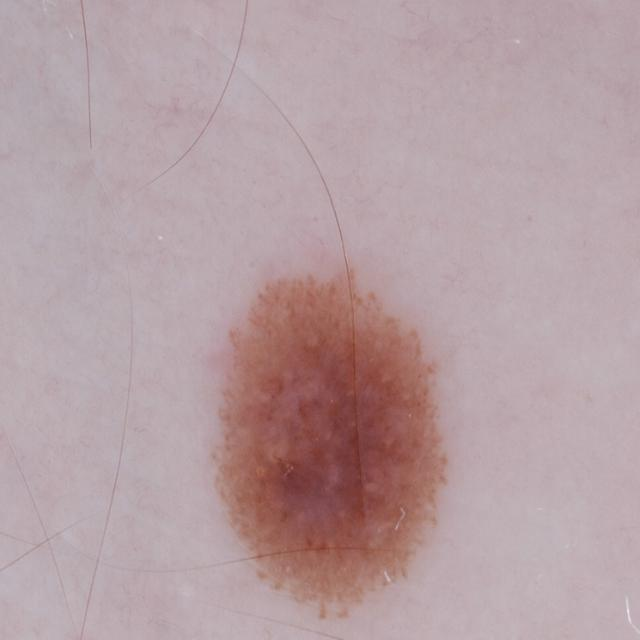Melanoma: (185, 241, 488, 640)
